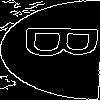B: (25, 25, 100, 59)
